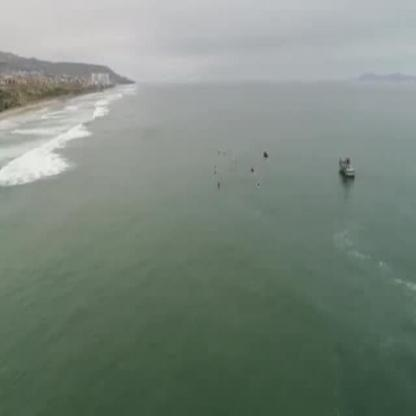Boat: (338, 154, 362, 185)
